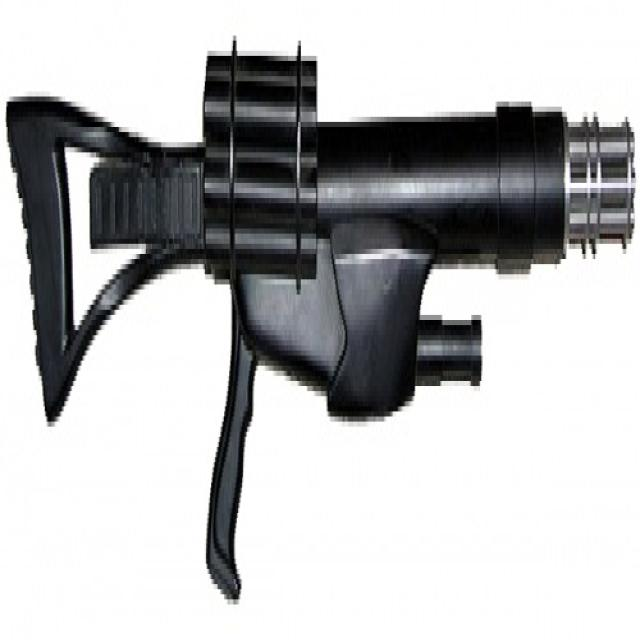rifle: (5, 33, 639, 615)
